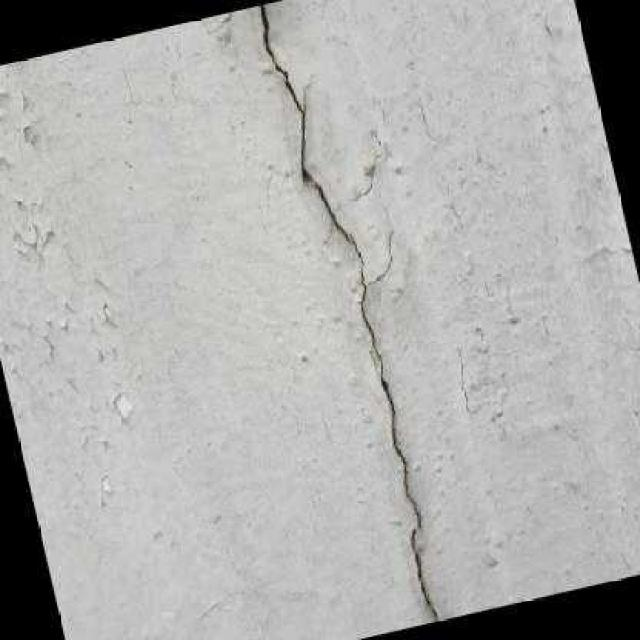D00: (255, 3, 446, 623)
